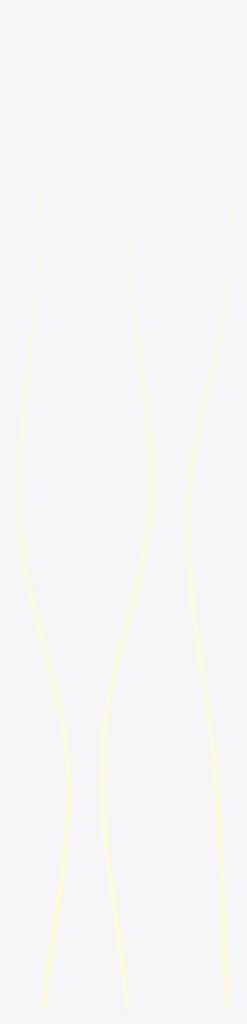
The model's file is strand_c_junction.glb.
The picture shows the model from 3 angles, left to right: view 1: azimuth 30°, elevation 25°; view 2: azimuth 210°, elevation 25°; view 3: azimuth 330°, elevation 25°; orthographic projection.
Size of the model in its own units: 0.337 by 7 by 0.3138.
